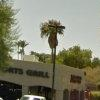Palm tree: (32, 10, 74, 91)
